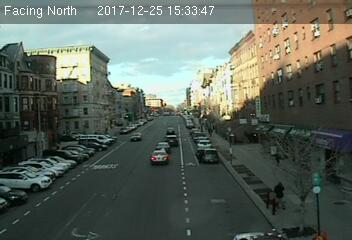car: (200, 148, 218, 162), (151, 149, 168, 163), (164, 134, 178, 145), (155, 142, 170, 152), (129, 132, 143, 142)
pedestrian: (272, 180, 286, 211)
